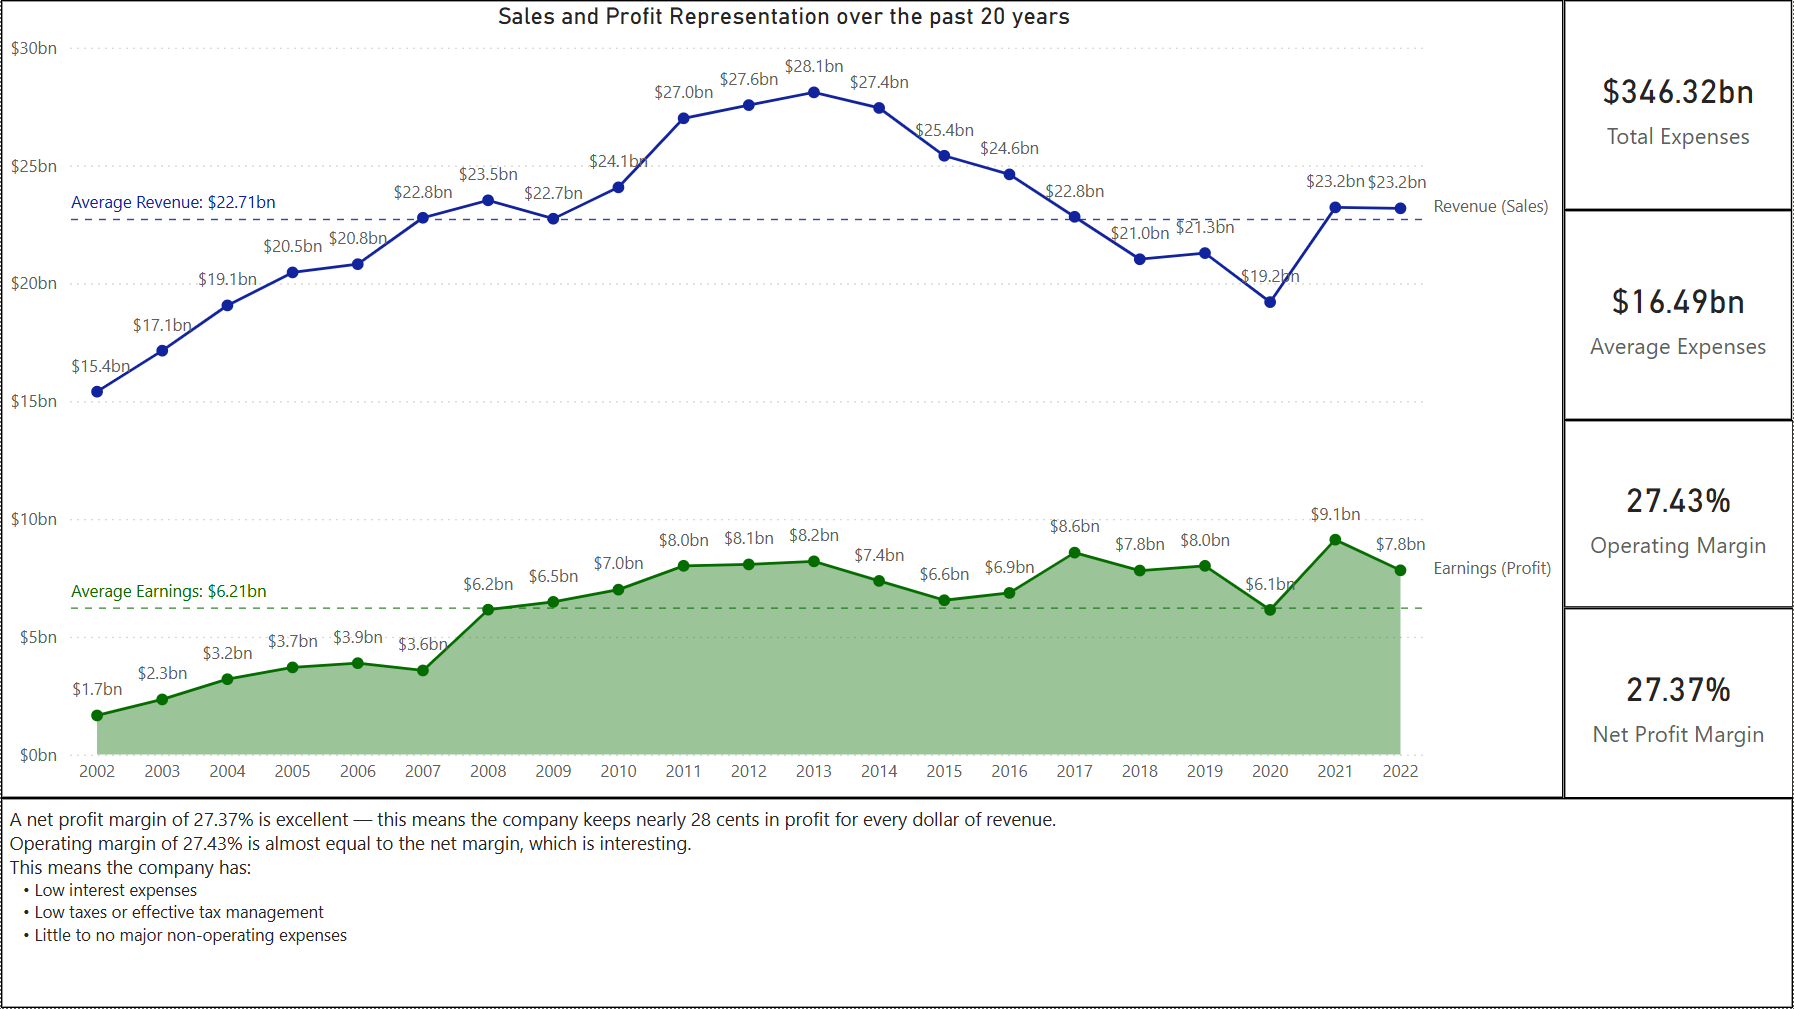

This screenshot's page, from the dashboard's own definition file:
{"tool":"powerbi","page":{"name":"Sales vs Profit","canvas":[1280,720],"ordinal":1},"visuals":[{"type":"lineChart","title":"Sales and Profit Representation over the past 20 years","fields":{"Category":["MCD.Date.Variation.Date Hierarchy.Year"],"Y":["Sum(MCD.Earnings ($))","Sum(MCD.Revenue ($))"]},"box":[0,0,1116.4,570],"z":0},{"type":"card","fields":{"Values":["Table.Total Expenses"]},"box":[1116.7,0,163.3,150],"z":1},{"type":"card","fields":{"Values":["Table.Average Expenses"]},"box":[1116.7,150,163.3,150],"z":2},{"type":"card","fields":{"Values":["Table.Operating Margin New"]},"box":[1116.4,300,163.6,134.3],"z":3},{"type":"card","fields":{"Values":["Table.Net Profit Margin"]},"box":[1116.4,434.3,163.6,135.7],"z":4},{"type":"textbox","box":[0,570,1280,150],"z":5}]}

Visuals, with their boxes in screenshot pixels (x1, y1, x2, y2), scaled from the page's 1280x720 canvas onto the 1794x1009 screenshot:
"Sales and Profit Representation over the past 20 years" lineChart: bbox(0, 0, 1565, 799)
card - Table.Total Expenses: bbox(1565, 0, 1793, 210)
card - Table.Average Expenses: bbox(1565, 210, 1793, 420)
card - Table.Operating Margin New: bbox(1565, 420, 1793, 609)
card - Table.Net Profit Margin: bbox(1565, 609, 1793, 799)
textbox: bbox(0, 799, 1793, 1008)
